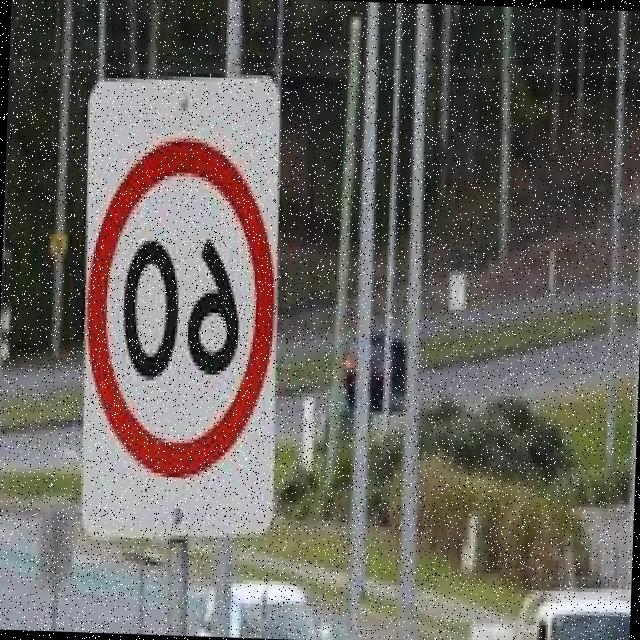speed_limit_60: (75, 123, 282, 482)
